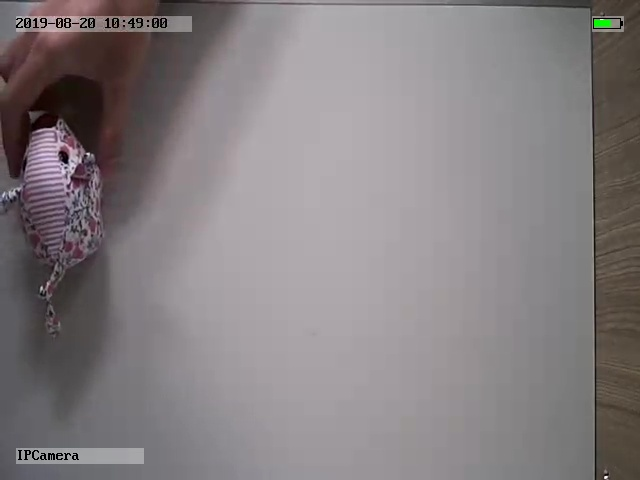pig: (2, 114, 109, 342)
